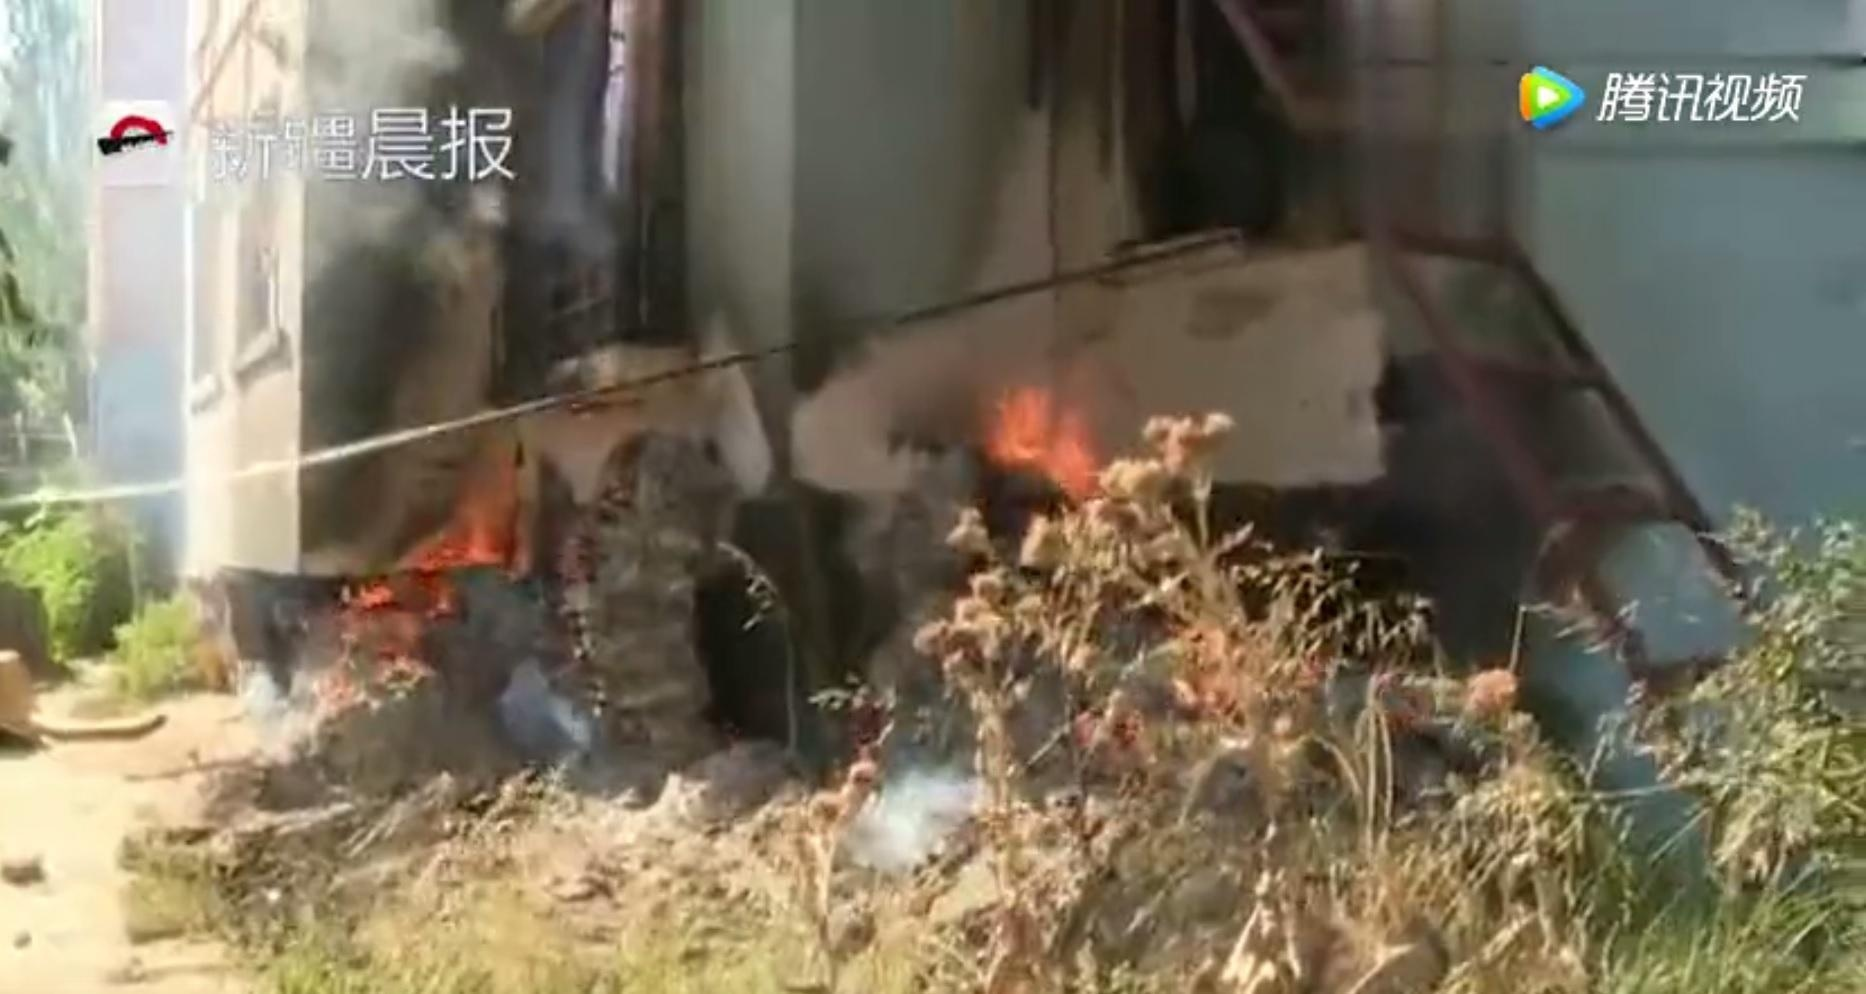fire: (991, 383, 1114, 490)
